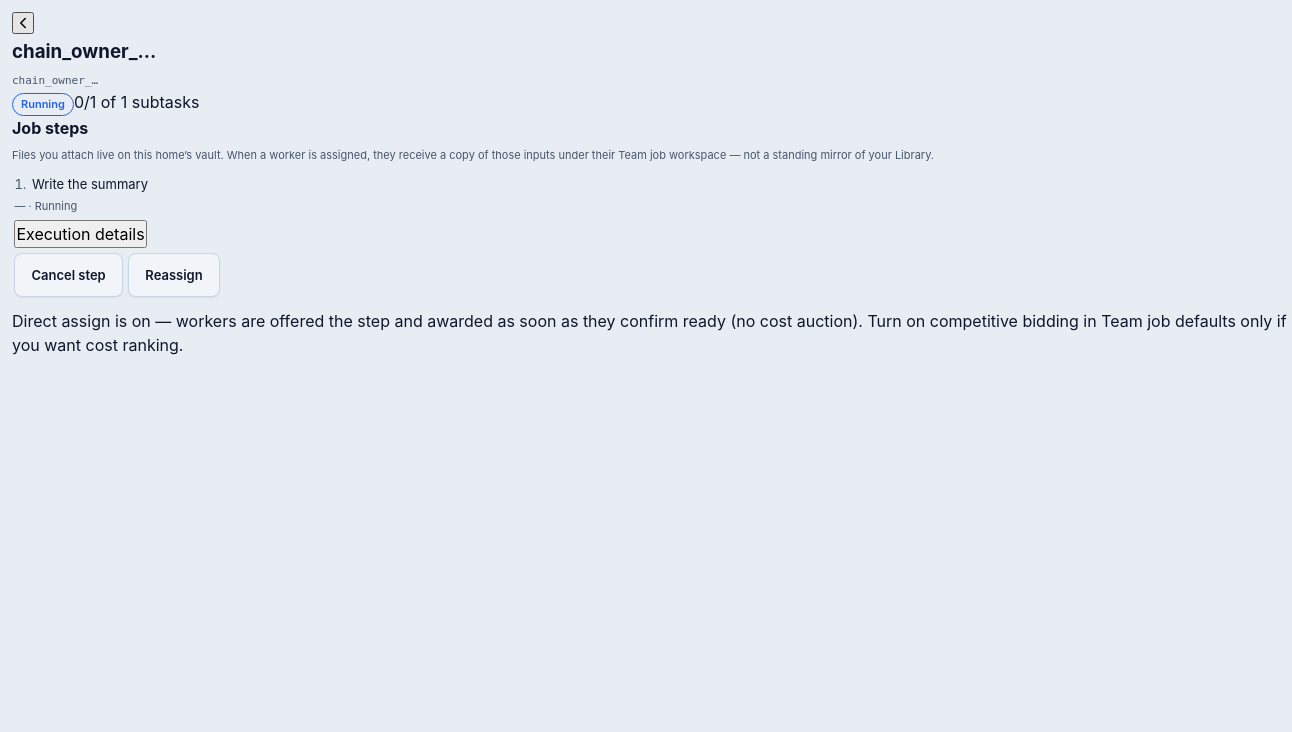
Scenario: ChainDetailPanel step cancel residual risk › toasts success when cancelled includes the subtask
The width and height of the screenshot is (1292, 732).
Click the button with test id "chain-step-cancel-sub_1": (69, 275) [14,253,123,297]
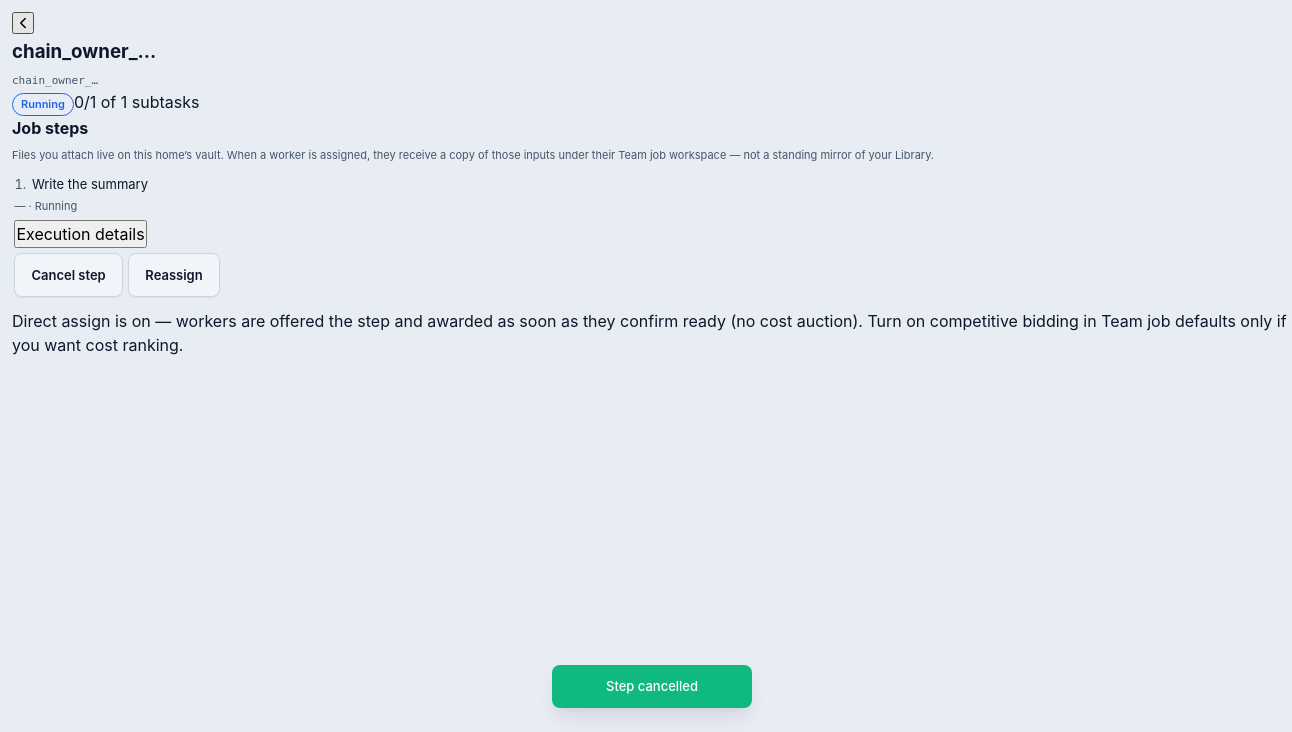
Now the text "Step cancelled" is shown, box [552,664,752,708]
